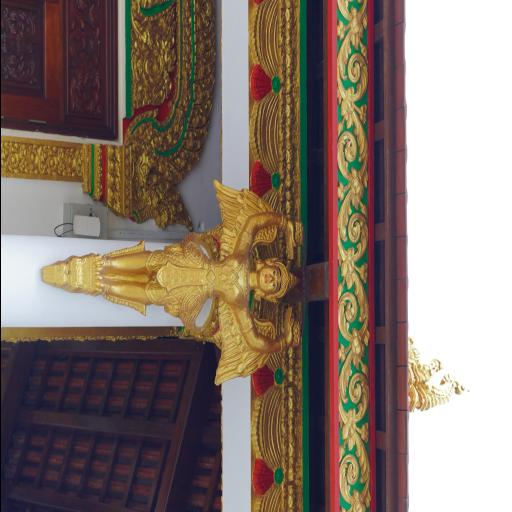ran: (120, 123, 196, 248), (406, 330, 479, 442)
than: (42, 178, 302, 392)
